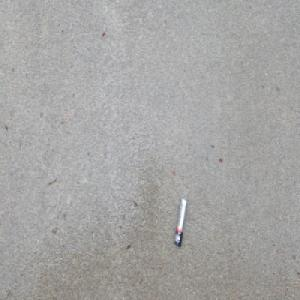Battery: (172, 196, 186, 249)
